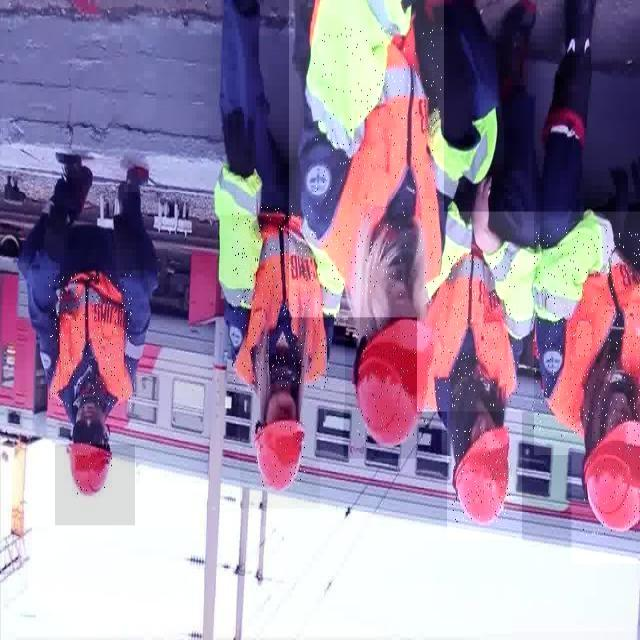Helmet: (344, 306, 442, 458), (571, 376, 640, 563), (447, 410, 522, 540), (240, 393, 320, 508), (55, 423, 135, 525)
Safety Vest: (289, 0, 444, 317), (534, 212, 640, 455), (219, 215, 345, 406), (417, 212, 537, 412), (27, 270, 148, 444)
